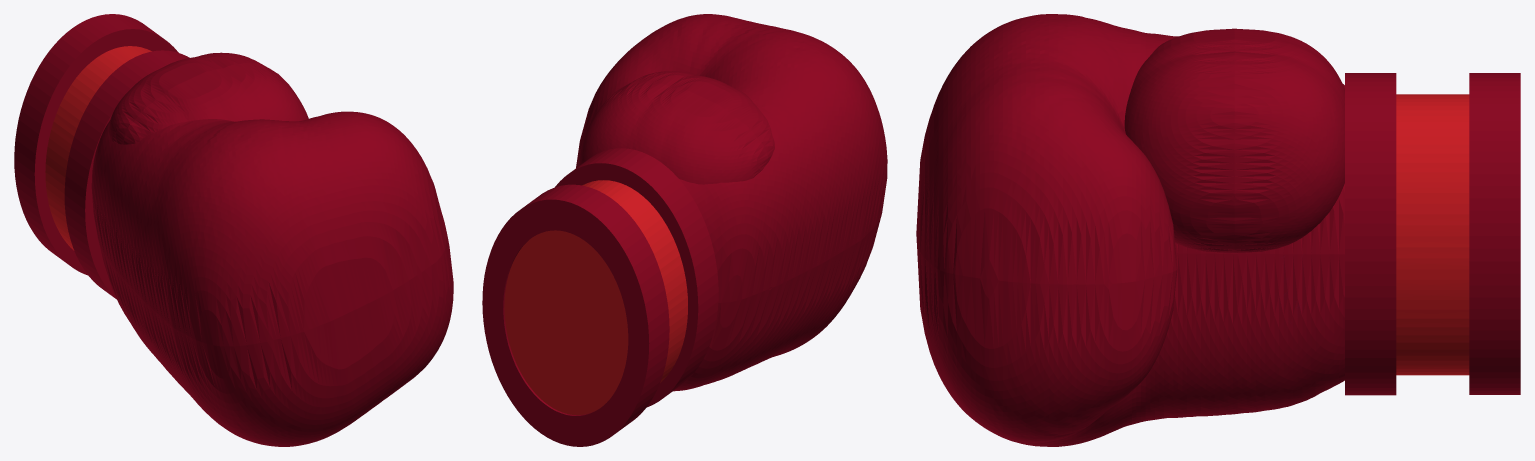
File: left_glove.glb
3 renders of one model, left to right at view 1: azimuth 30°, elevation 25°; view 2: azimuth 150°, elevation 25°; view 3: azimuth 270°, elevation 25°, orthographic. The views are drawn at different scales.
Size of the model in its own units: 0.4025 by 0.4393 by 0.6124.
Materials: 3 (3 with a texture image).
